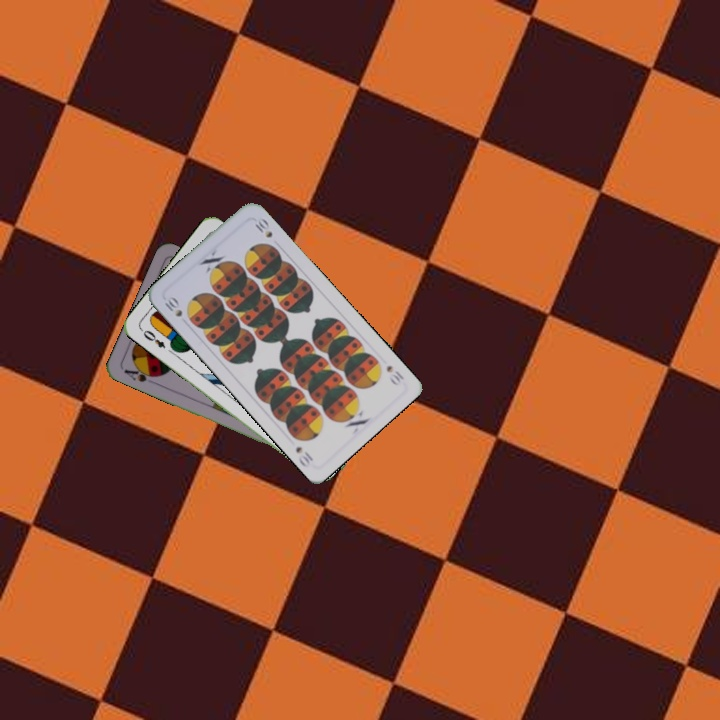EO: (136, 325, 168, 351)
S10: (159, 292, 185, 320), (382, 361, 407, 388)
SA: (120, 363, 161, 385)
